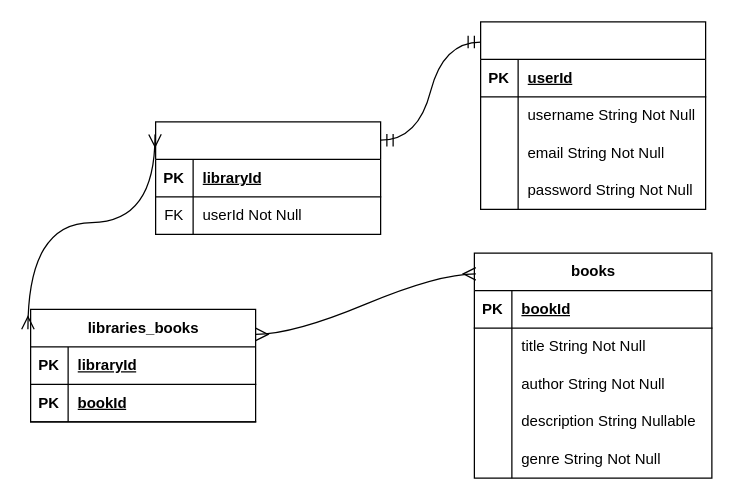
Image size: 735x500. Some labels were removed from this diagram. Here are the shapes that lost their labels. From the top down, the box of each, then its label:
(479, 21, 706, 209): users
(154, 121, 381, 234): libraries
